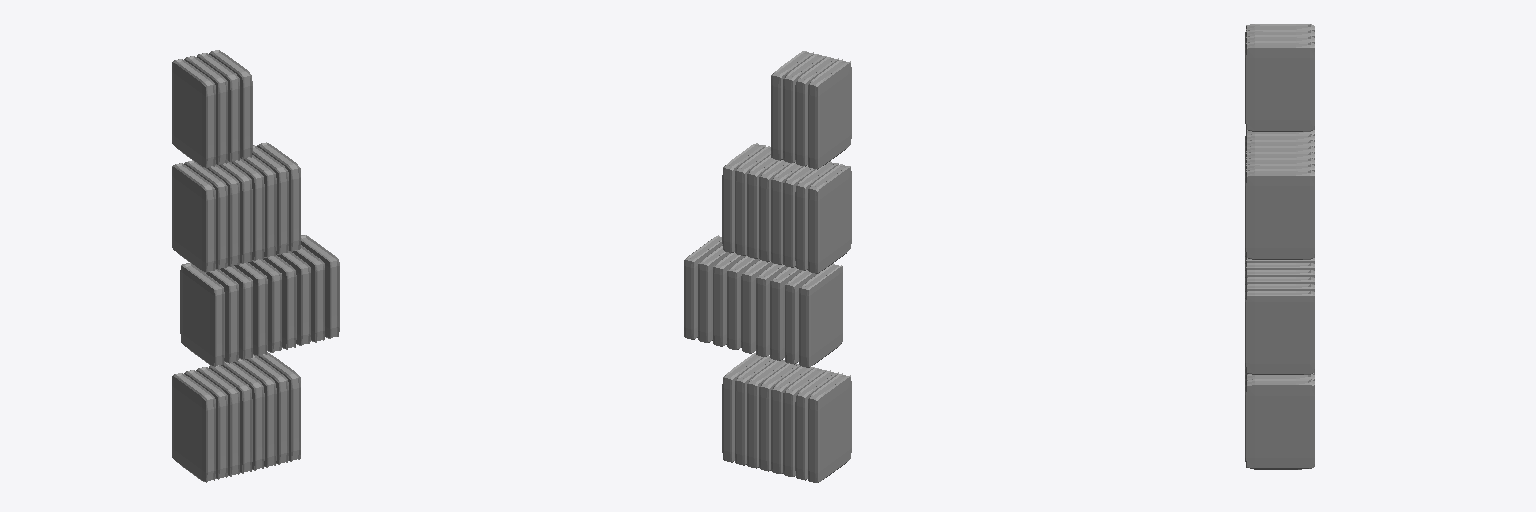
File: books.obj
3 renders of one model, left to right at view 1: azimuth 30°, elevation 25°; view 2: azimuth 150°, elevation 25°; view 3: azimuth 270°, elevation 25°, orthographic.
Parts seen in each view (by area): view 1: book02_08_Group5, book01_04_Group30, book04_08_Group22, book03_09_Group21, book03_01_Group13, book01_01_Group33, book04_05_Group25, book03_06_Group18, book03_04_Group16, book01_02_Group32, book01_03_Group31, book04_07_Group23 (+17 smaller); view 2: book02_08_Group5, book04_08_Group22, book01_04_Group30, book03_09_Group21, book03_01_Group13, book01_03_Group31, book02_01_Group12, book04_07_Group23, book03_02_Group14, book02_07_Group6, book04_01_Group28, book03_07_Group19 (+17 smaller); view 3: book04_01_Group28, book01_01_Group33, book02_01_Group12, book03_01_Group13.
Part boxes in pixels (x1,y1,x2,y2): book02_08_Group5: (172,163,215,272); book01_04_Group30: (172,59,215,168); book04_08_Group22: (172,373,215,482); book03_09_Group21: (180,263,224,366); book03_01_Group13: (301,235,339,338); book01_01_Group33: (209,50,252,159); book04_05_Group25: (209,365,252,473); book03_06_Group18: (234,262,267,356); book03_04_Group16: (263,255,296,349); book01_02_Group32: (197,53,239,162); book01_03_Group31: (184,56,227,165); book04_07_Group23: (184,370,227,479); book02_08_Group5: (808,164,851,273); book04_08_Group22: (808,373,851,482); book01_04_Group30: (808,59,851,169); book03_09_Group21: (799,263,842,367); book03_01_Group13: (684,235,722,339); book01_03_Group31: (795,57,838,166); book02_01_Group12: (722,143,765,252); book04_07_Group23: (795,370,838,480); book03_02_Group14: (698,245,729,342); book02_07_Group6: (795,161,838,270); book04_01_Group28: (722,353,763,462); book03_07_Group19: (770,267,802,360); book04_01_Group28: (1245,379,1314,469); book01_01_Group33: (1245,41,1314,131); book02_01_Group12: (1245,169,1314,259); book03_01_Group13: (1245,291,1314,374).
Size of the model in its own units: 0.3875 by 1.11 by 0.1754.